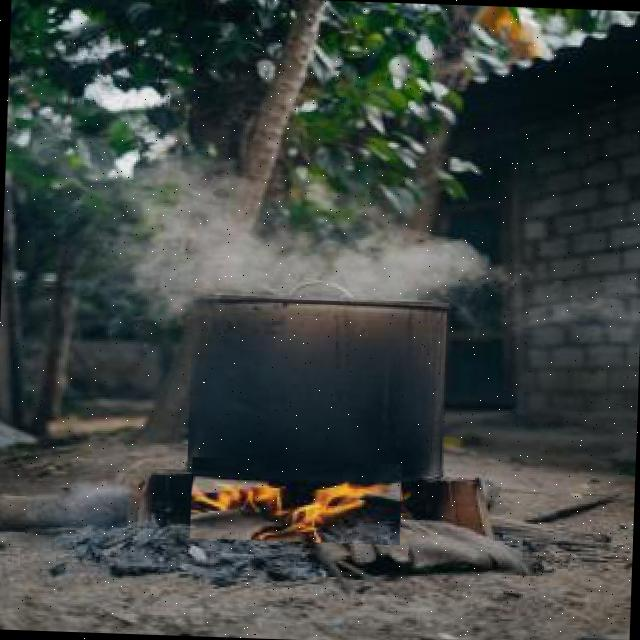fire: (189, 457, 402, 545)
